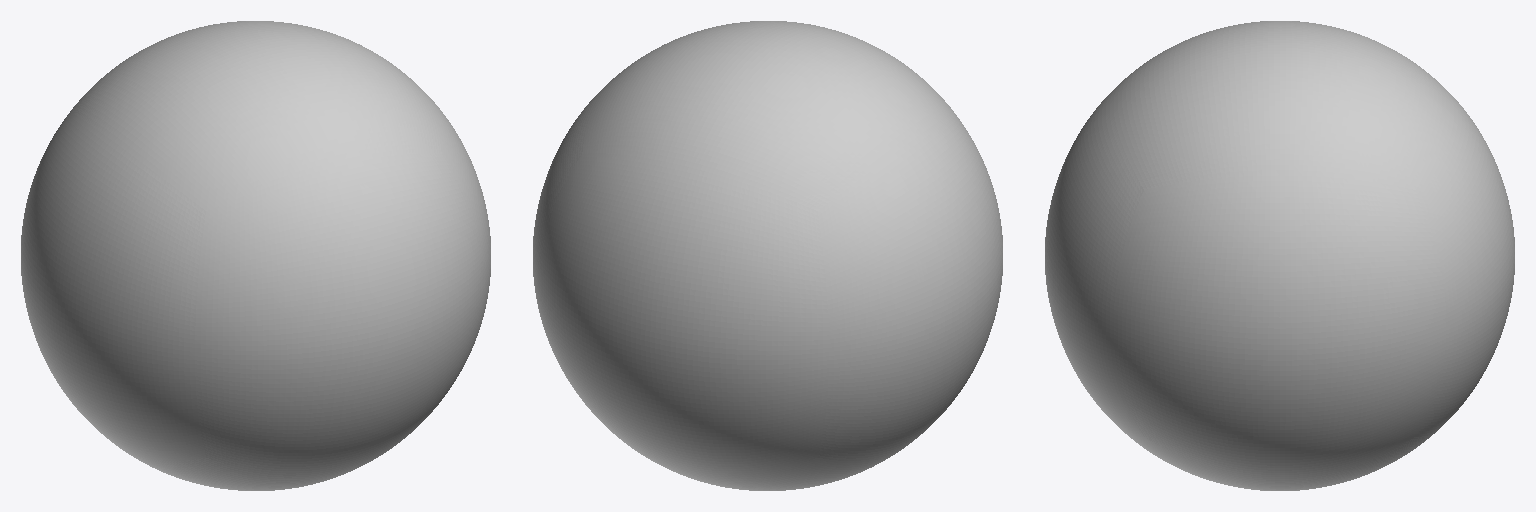
The model's file is universe.obj.
3 views of the same model, side by side, from view 1: azimuth 30°, elevation 25°; view 2: azimuth 150°, elevation 25°; view 3: azimuth 270°, elevation 25° (orthographic).
Visible parts, largest first — view 1: Cube_Cube.001; view 2: Cube_Cube.001; view 3: Cube_Cube.001.
Part boxes in pixels (left/top/right/bottom): Cube_Cube.001: left=21, top=21, right=490, bottom=490; Cube_Cube.001: left=533, top=21, right=1002, bottom=490; Cube_Cube.001: left=1045, top=21, right=1514, bottom=490.
Size of the model in its own units: 3.46 by 3.46 by 3.46.